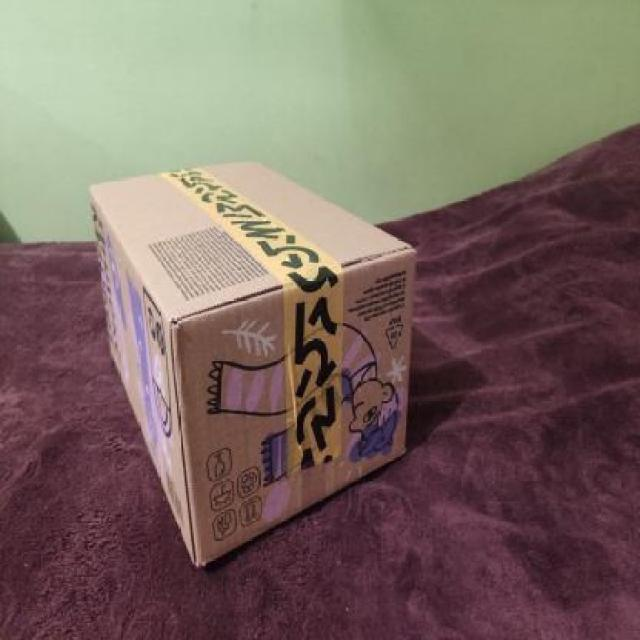box: (84, 153, 419, 567)
